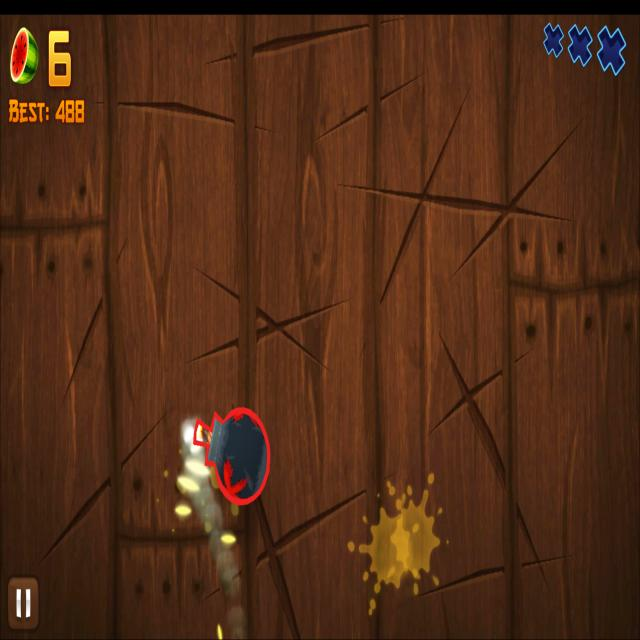bomb: (192, 405, 272, 508)
